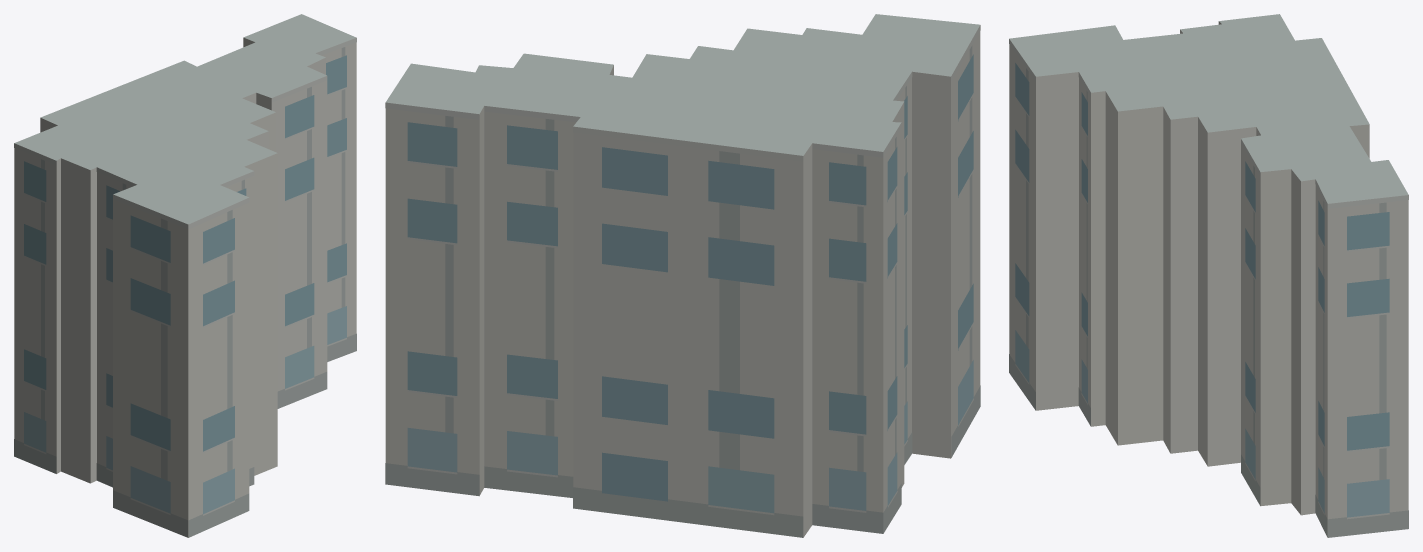
Rendered from survey-upis-32695871.glb.
3 views of the same model, side by side, from view 1: azimuth 30°, elevation 25°; view 2: azimuth 150°, elevation 25°; view 3: azimuth 270°, elevation 25° (orthographic). The views are drawn at different scales.
Parts seen in each view (by area): view 1: survey-upis-32695871.tmp; view 2: survey-upis-32695871.tmp; view 3: survey-upis-32695871.tmp.
Part boxes in pixels (<box>): survey-upis-32695871.tmp: <box>14,14,356,537</box>; survey-upis-32695871.tmp: <box>385,14,980,537</box>; survey-upis-32695871.tmp: <box>1009,14,1408,537</box>.
Bounding box in the file's own units: 19.51 × 16 × 17.36.
